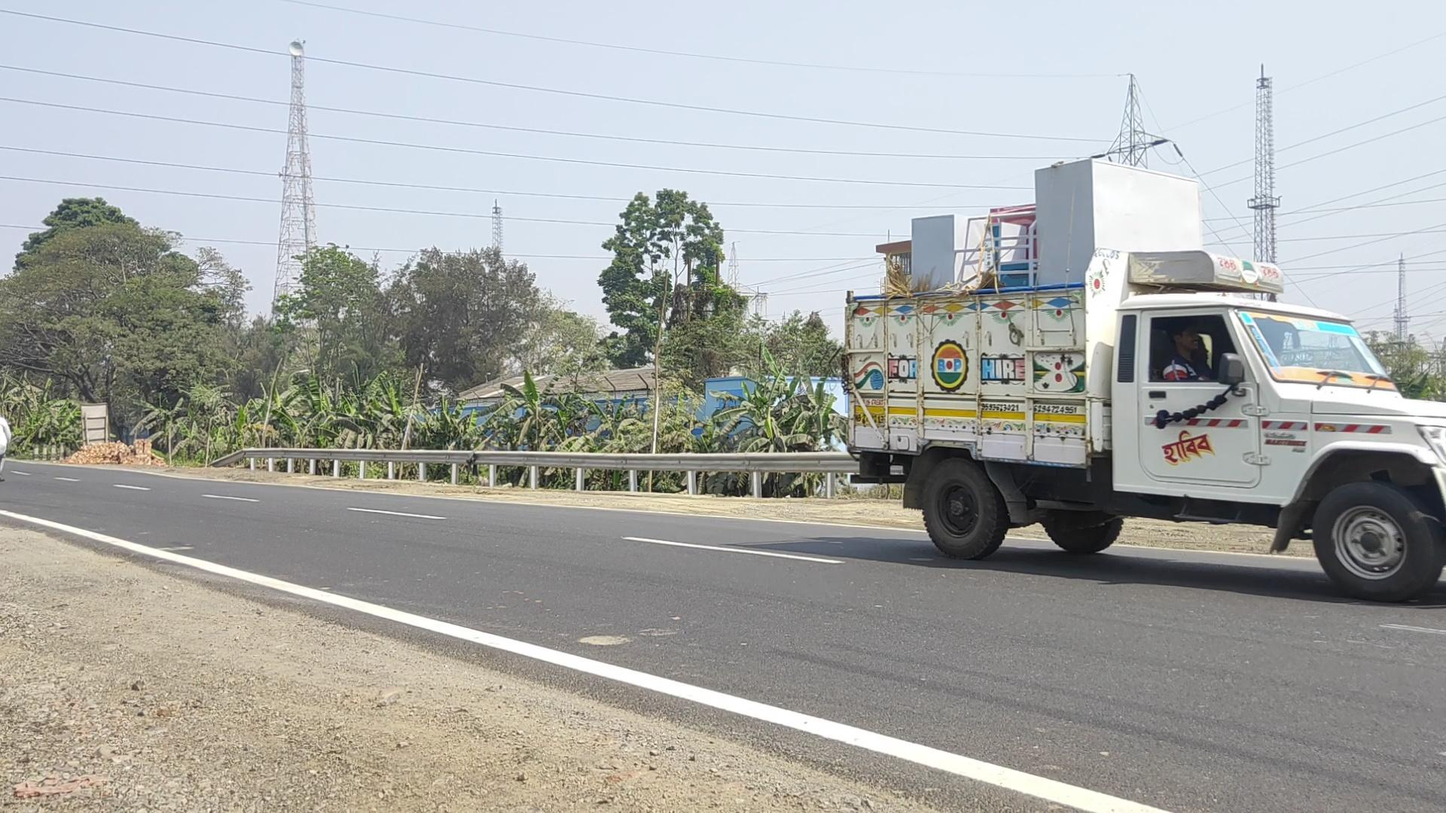van: (841, 159, 1446, 604)
